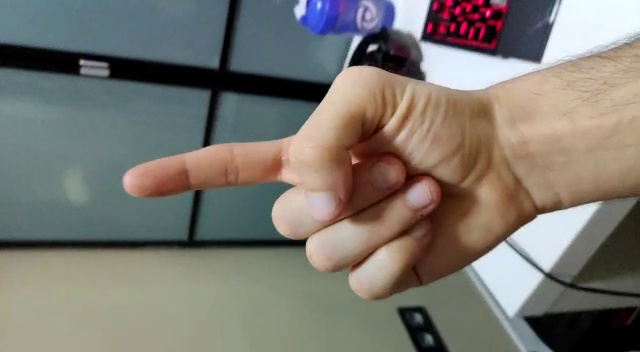One: (119, 64, 434, 279)
